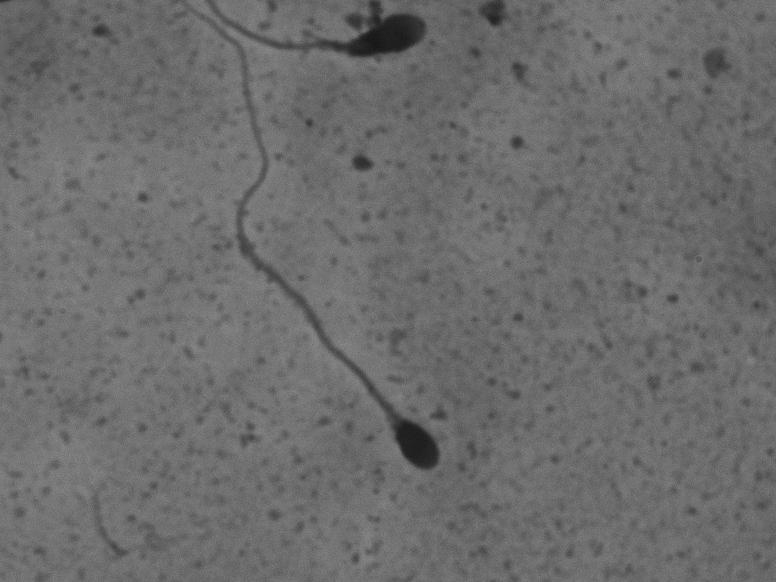Abnormal: (207, 3, 447, 80)
Normal: (176, 0, 462, 479)
